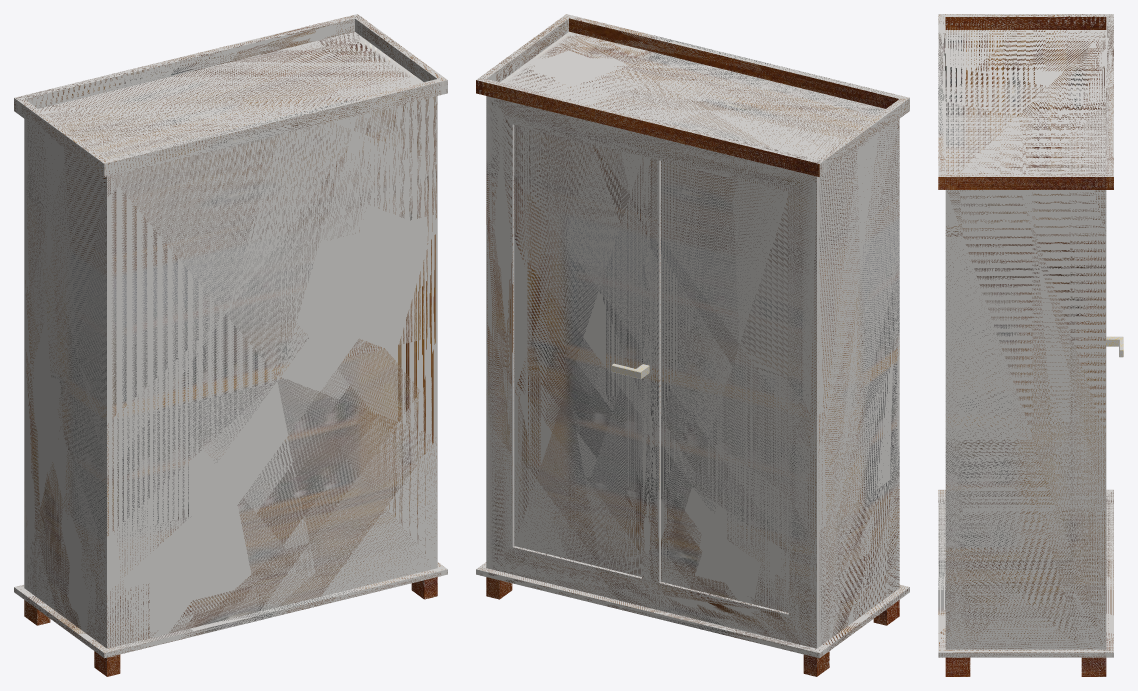
The picture shows the model from 3 angles, left to right: view 1: azimuth 30°, elevation 25°; view 2: azimuth 150°, elevation 25°; view 3: azimuth 270°, elevation 25°; orthographic projection. The views are drawn at different scales.
Visible parts, largest first — view 1: mesh1_mesh1-geometry; view 2: mesh1_mesh1-geometry; view 3: mesh1_mesh1-geometry.
Part boxes in pixels (x1,y1,x2,y2): mesh1_mesh1-geometry: (14,14,447,676); mesh1_mesh1-geometry: (476,14,909,676); mesh1_mesh1-geometry: (938,14,1123,676).
Bounding box in the file's own units: 0.5503 × 0.7919 × 0.2646.
